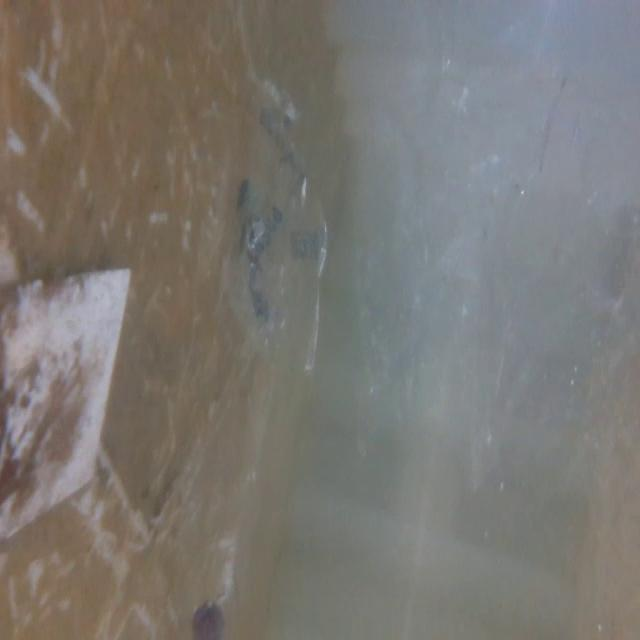metal: (0, 257, 141, 536)
plastic bags: (365, 0, 640, 491), (212, 102, 333, 412)
plastic bottle: (182, 443, 266, 640)
